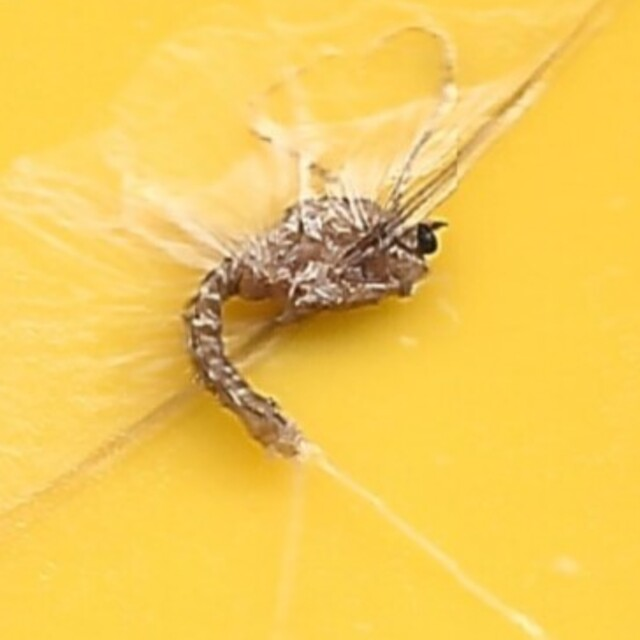Ephemeroptera: (176, 173, 464, 467)
